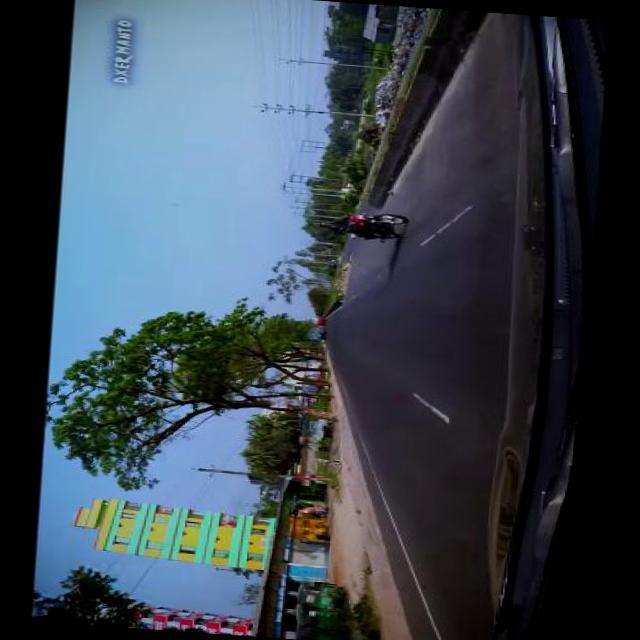bus: (306, 317, 322, 326)
motorcycle: (342, 208, 406, 242), (295, 580, 343, 610), (293, 604, 333, 630)
truck: (306, 418, 330, 440), (306, 329, 325, 340)
